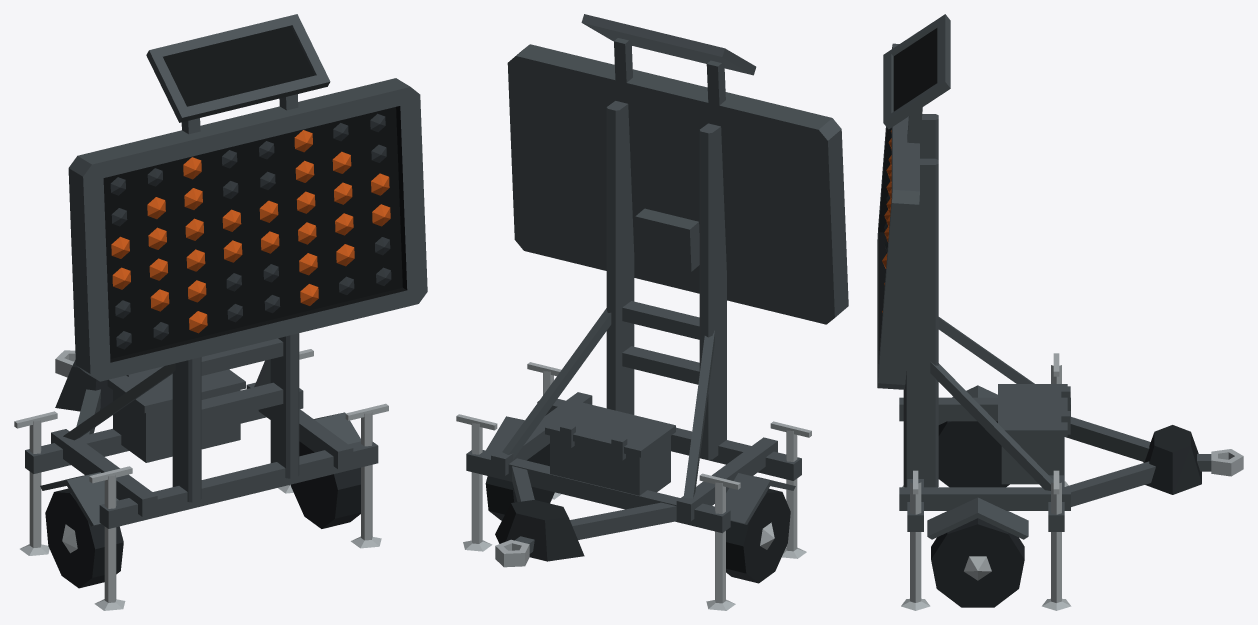
File: arrow-board-2eea6b.glb
3 renders of one model, left to right at view 1: azimuth 30°, elevation 25°; view 2: azimuth 150°, elevation 25°; view 3: azimuth 270°, elevation 25°, orthographic. The views are drawn at different scales.
Visible parts, largest first — view 1: arrow-board-mesh, wheel-l-mesh, wheel-r-mesh, ballast-mesh; view 2: arrow-board-mesh, wheel-l-mesh, ballast-mesh, wheel-r-mesh; view 3: arrow-board-mesh, wheel-r-mesh, wheel-l-mesh, ballast-mesh.
Boxes of the visible parts, left/top/right/bottom form: arrow-board-mesh: left=14, top=14, right=427, bottom=610; wheel-l-mesh: left=45, top=488, right=123, bottom=588; wheel-r-mesh: left=291, top=441, right=360, bottom=528; ballast-mesh: left=55, top=360, right=112, bottom=411; arrow-board-mesh: left=456, top=14, right=848, bottom=610; wheel-l-mesh: left=726, top=488, right=790, bottom=583; ballast-mesh: left=495, top=500, right=584, bottom=561; wheel-r-mesh: left=485, top=443, right=554, bottom=520; arrow-board-mesh: left=877, top=14, right=1243, bottom=610; wheel-r-mesh: left=931, top=518, right=1024, bottom=607; wheel-l-mesh: left=938, top=421, right=1009, bottom=487; ballast-mesh: left=1143, top=425, right=1201, bottom=494.
Size of the model in its own units: 2 by 3 by 2.
